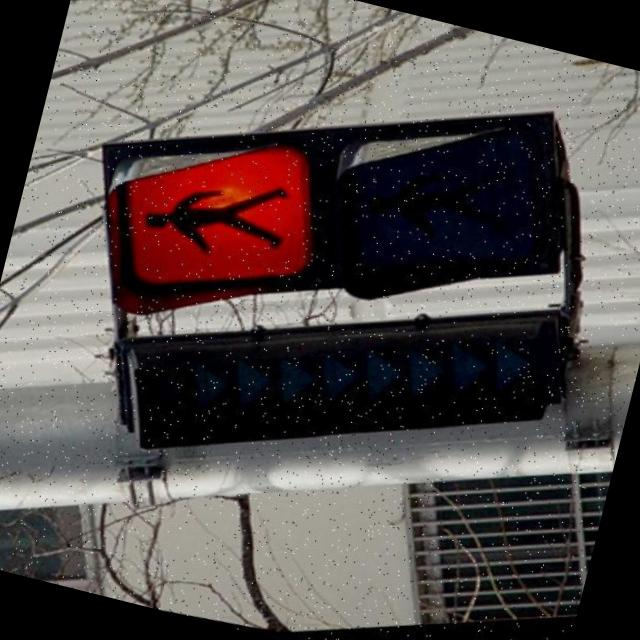red_light: (109, 124, 320, 320)
